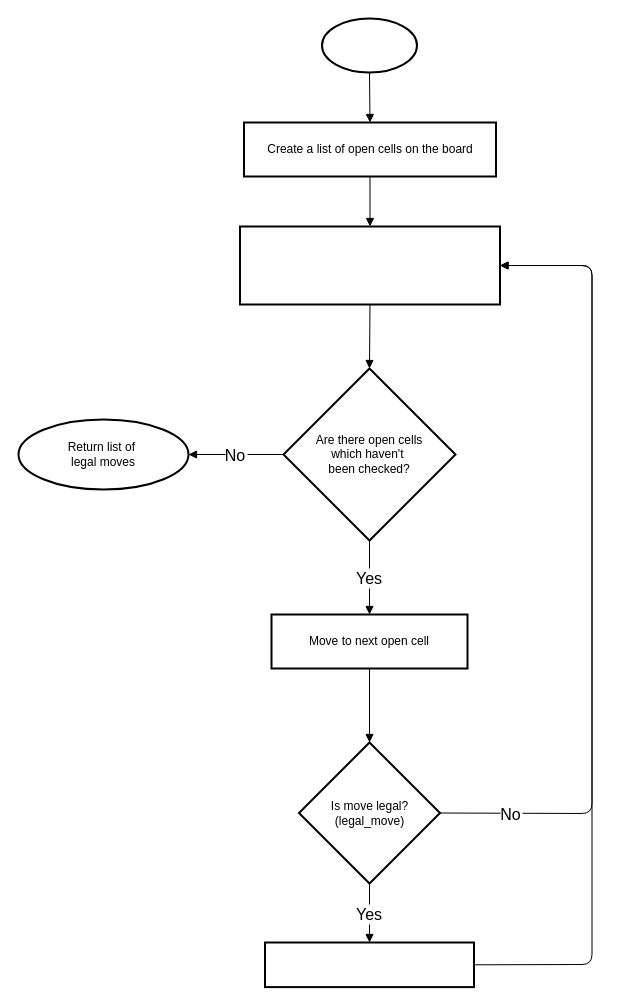
Image size: 617x1005. Some labels were removed from this diagram. The box of each missing label's shape, as (x1, y1, x2, y2) in pixels:
Append cell to list of legal moves: (264, 941, 474, 988)
Create empty list of legal moves: (238, 225, 500, 305)
Start: (320, 17, 418, 73)
